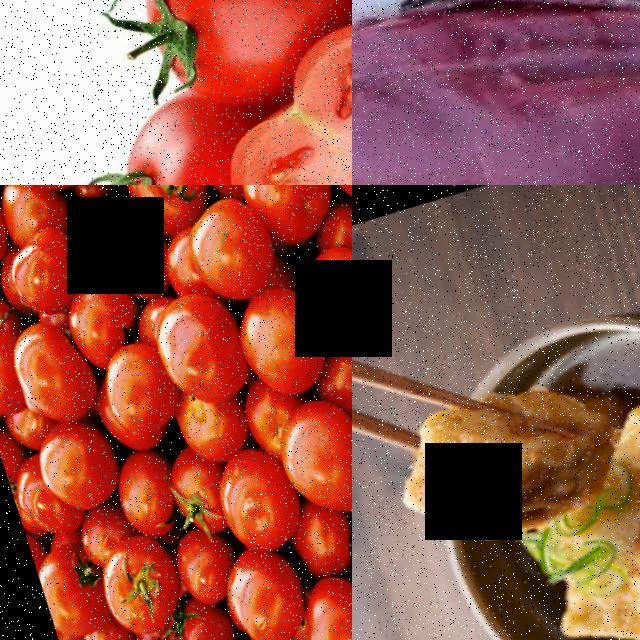tofu: (386, 371, 620, 557)
tomato: (187, 0, 352, 185), (110, 0, 352, 117), (141, 282, 255, 415), (262, 387, 352, 525), (83, 525, 188, 640), (152, 438, 235, 540), (110, 185, 213, 242)
tuna: (434, 32, 640, 185), (352, 37, 423, 185)
